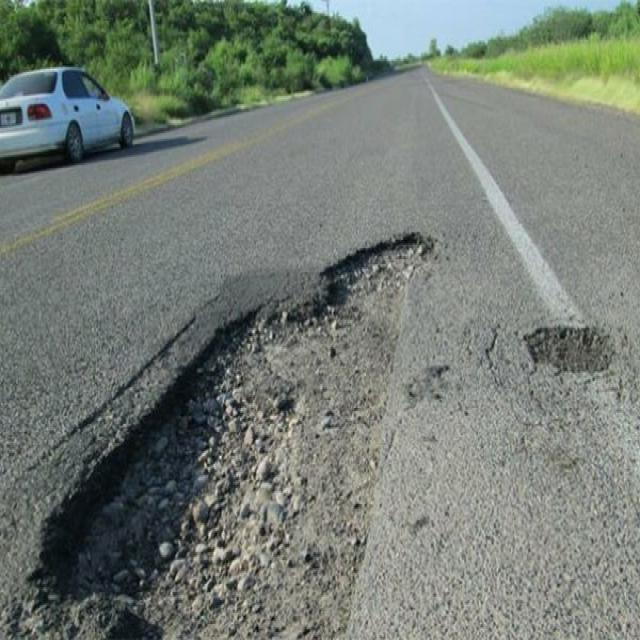pothole: (0, 200, 475, 635), (507, 301, 625, 404)
